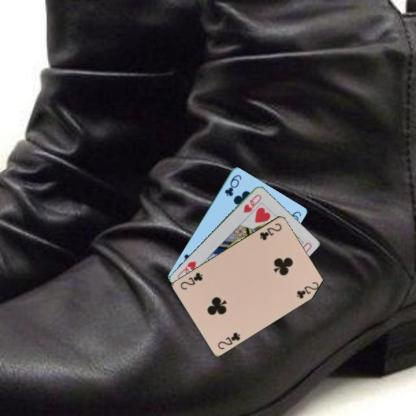2c: (214, 329, 242, 351), (257, 220, 283, 242)
6c: (222, 172, 243, 198)
Qh: (240, 191, 262, 214)
